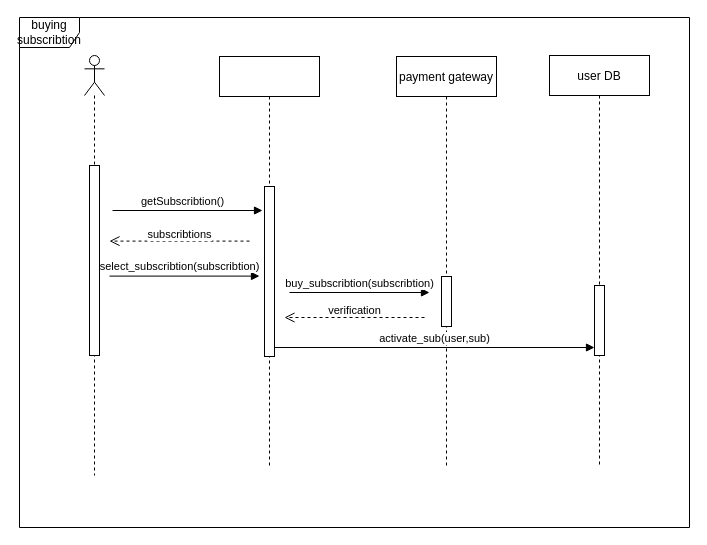
This 707x545 diagram has some shape labels left out. The box of each missing label's shape, as (x1, y1, x2, y2) in pixels:
subscribtion panel: (218, 56, 320, 468)
user: (84, 54, 104, 476)
